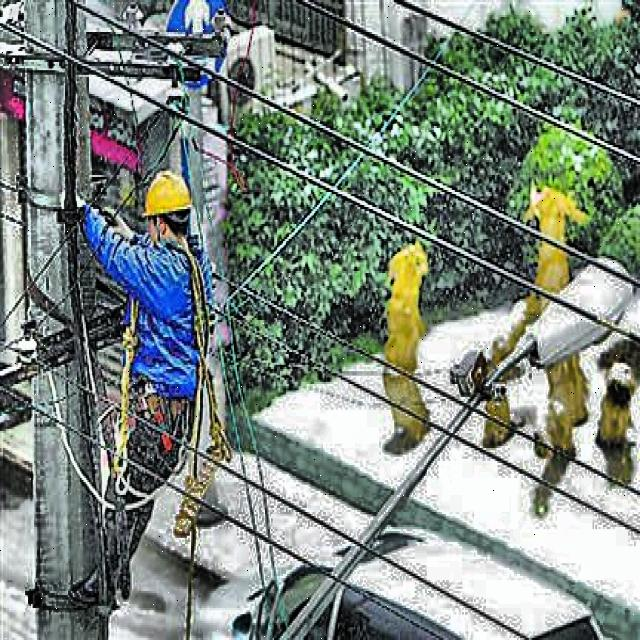helmet: (139, 164, 193, 246)
